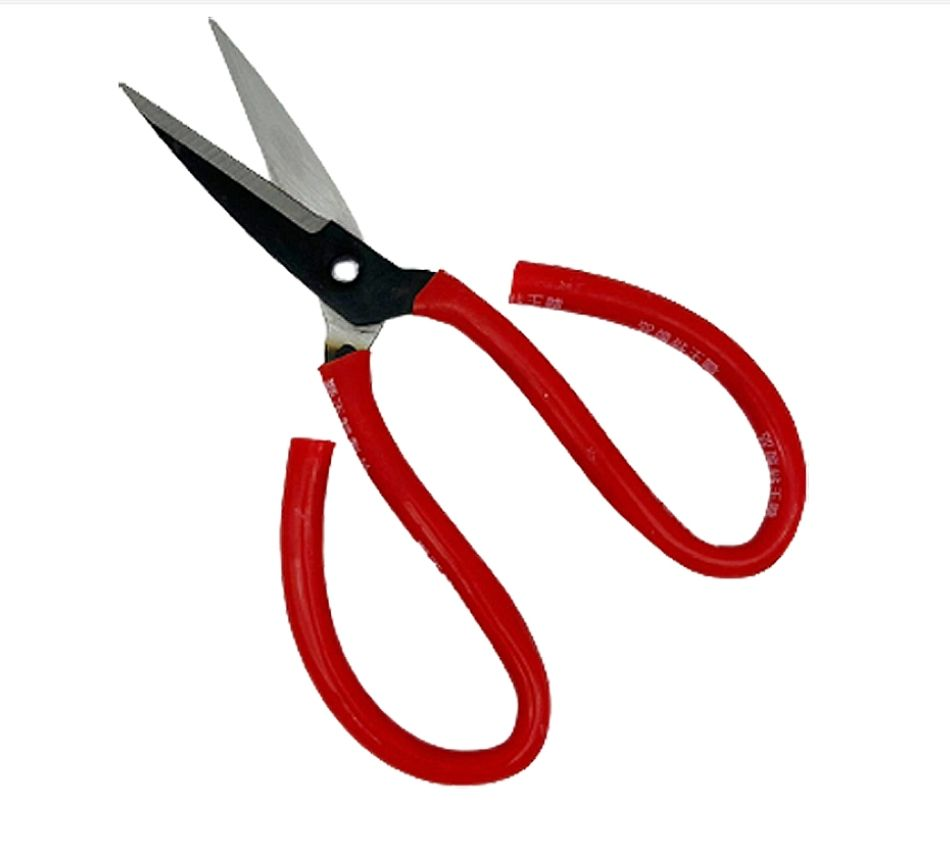scissors: (85, 13, 852, 790)
